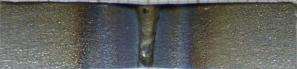soldas: (75, 2, 214, 68)
